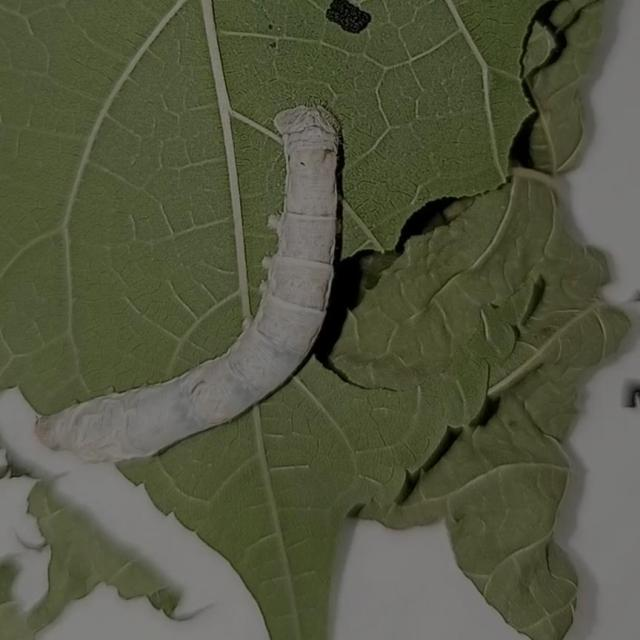Healthy: (31, 74, 405, 482)
